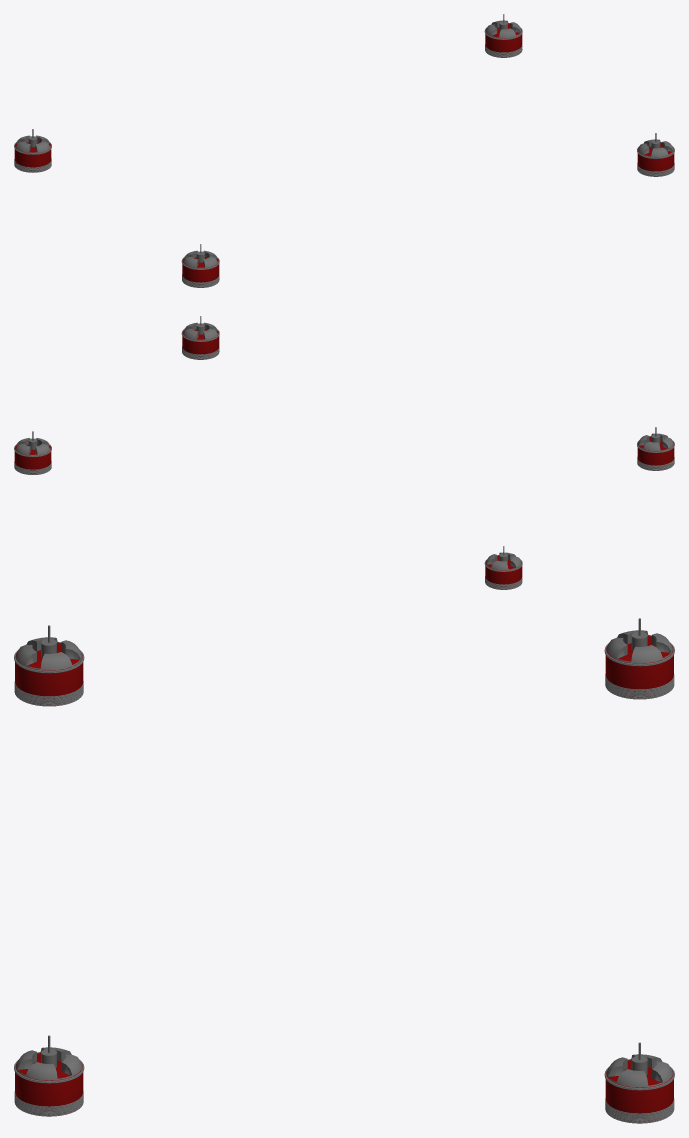
The model's file is copter_motors_red.dae.
3 views of the same model, one above another, from view 1: azimuth 30°, elevation 25°; view 2: azimuth 150°, elevation 25°; view 3: azimuth 270°, elevation 25° (orthographic). The views are drawn at different scales.
Parts seen in each view (by area): view 1: Motor (×2), Motorrundung_oben (×2); view 2: Motor (×2), Motorrundung_oben (×2); view 3: Motor (×2), Motorrundung_oben (×2).
Part boxes in pixels (x1,y1,x2,y2): Motor (×2): (14, 23, 674, 285); Motorrundung_oben (×2): (15, 20, 673, 268); Motor (×2): (14, 329, 674, 588); Motorrundung_oben (×2): (15, 322, 673, 570); Motor (×2): (15, 636, 673, 1122); Motorrundung_oben (×2): (16, 630, 672, 1087).
Bounding box in the file's own units: 946 × 64.66 × 582.
